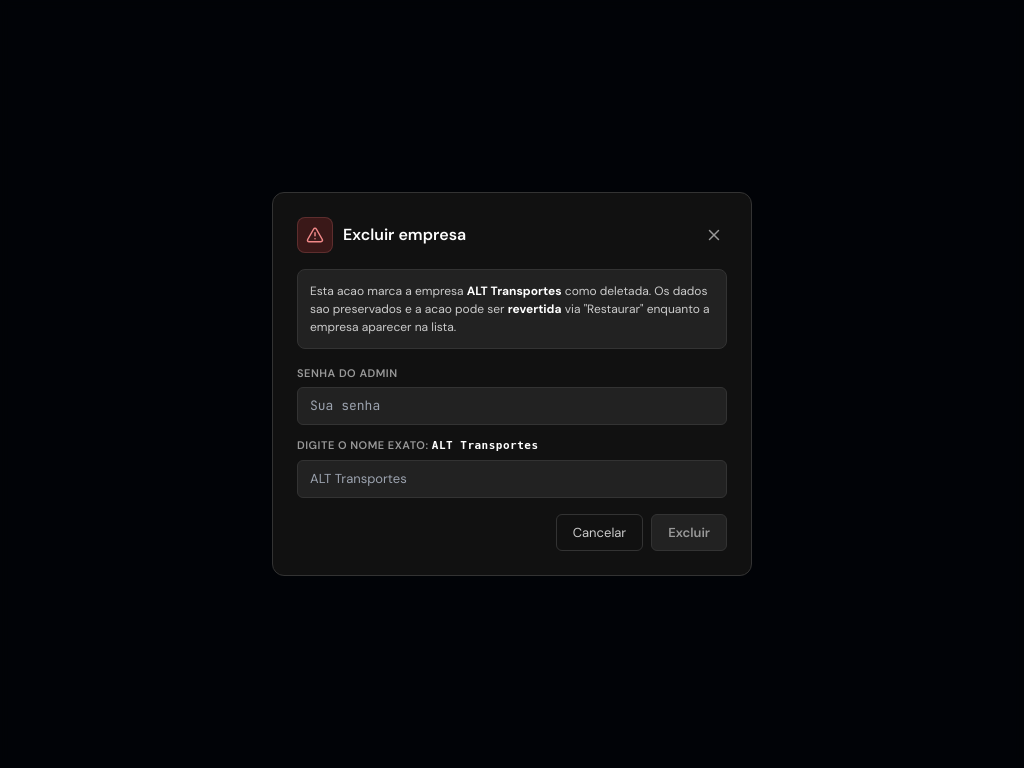
Test case: <DeleteEmpresaModal /> › botao Excluir continua desabilitado com nome errado
Type "minhasenha" into the password field labelled "Senha do admin". click: {"x": 512, "y": 406}
box: [297,387,727,425]
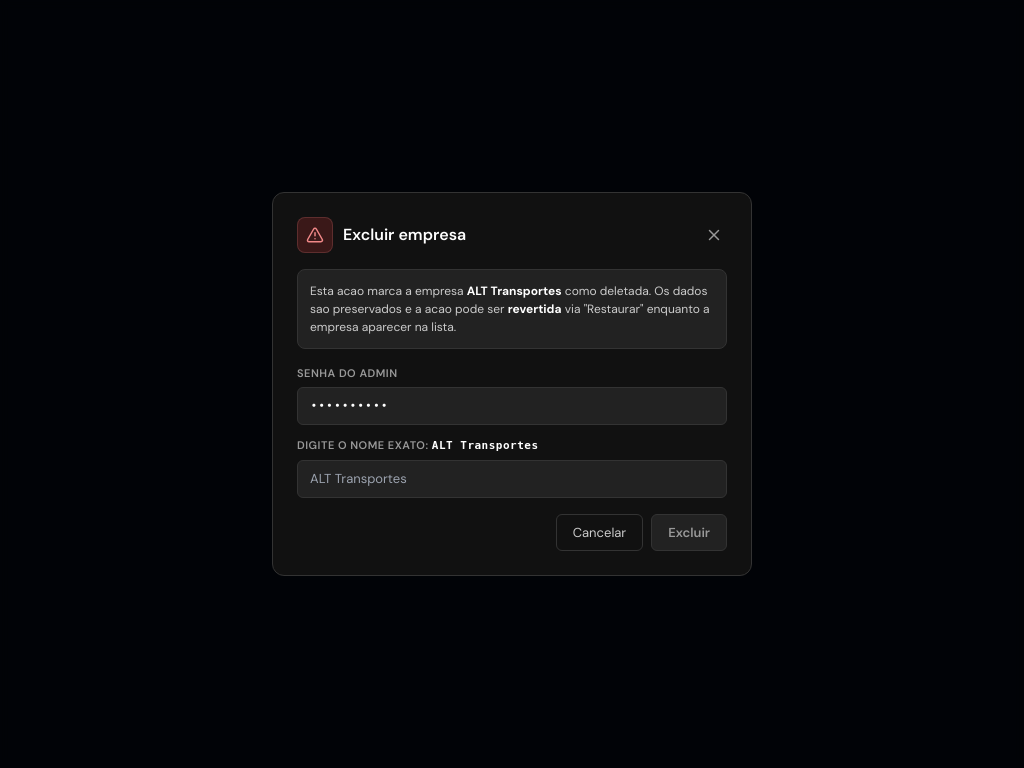
Type "ALT Trans" into the field labelled "Digite o nome exato: ALT Transportes". click: {"x": 512, "y": 479}
box: [297,460,727,498]
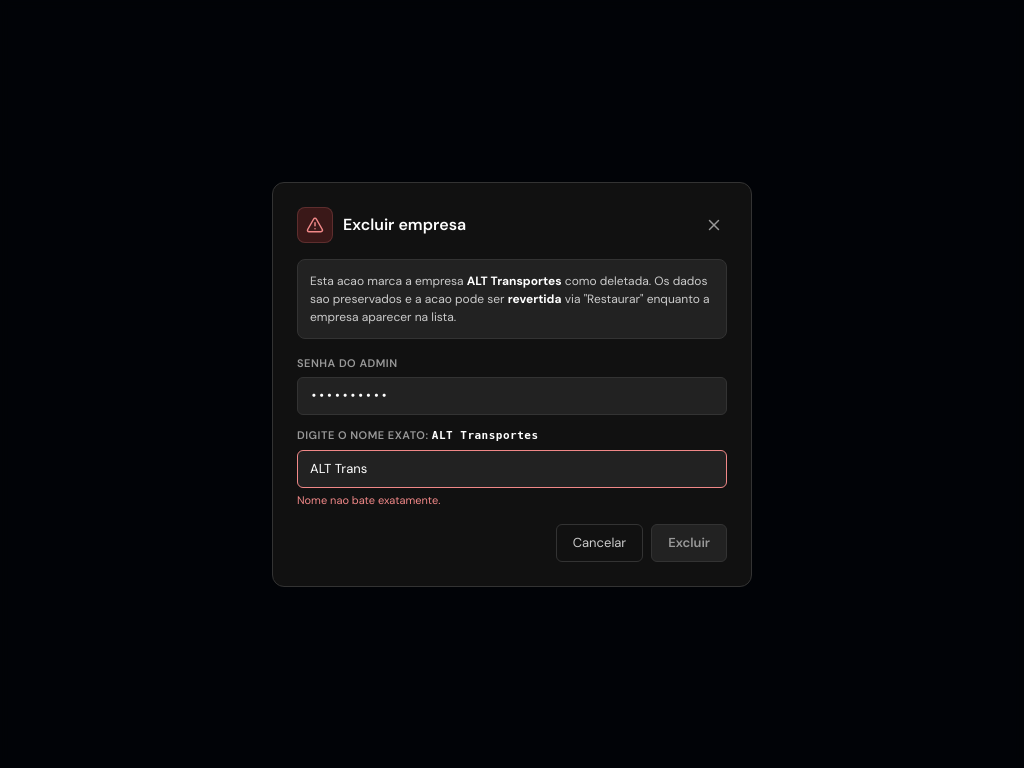
Expected: the button "Excluir" is disabled, [651,524,727,562]
Expected: the text "Nome nao bate exatamente." is shown, [297,492,440,506]
